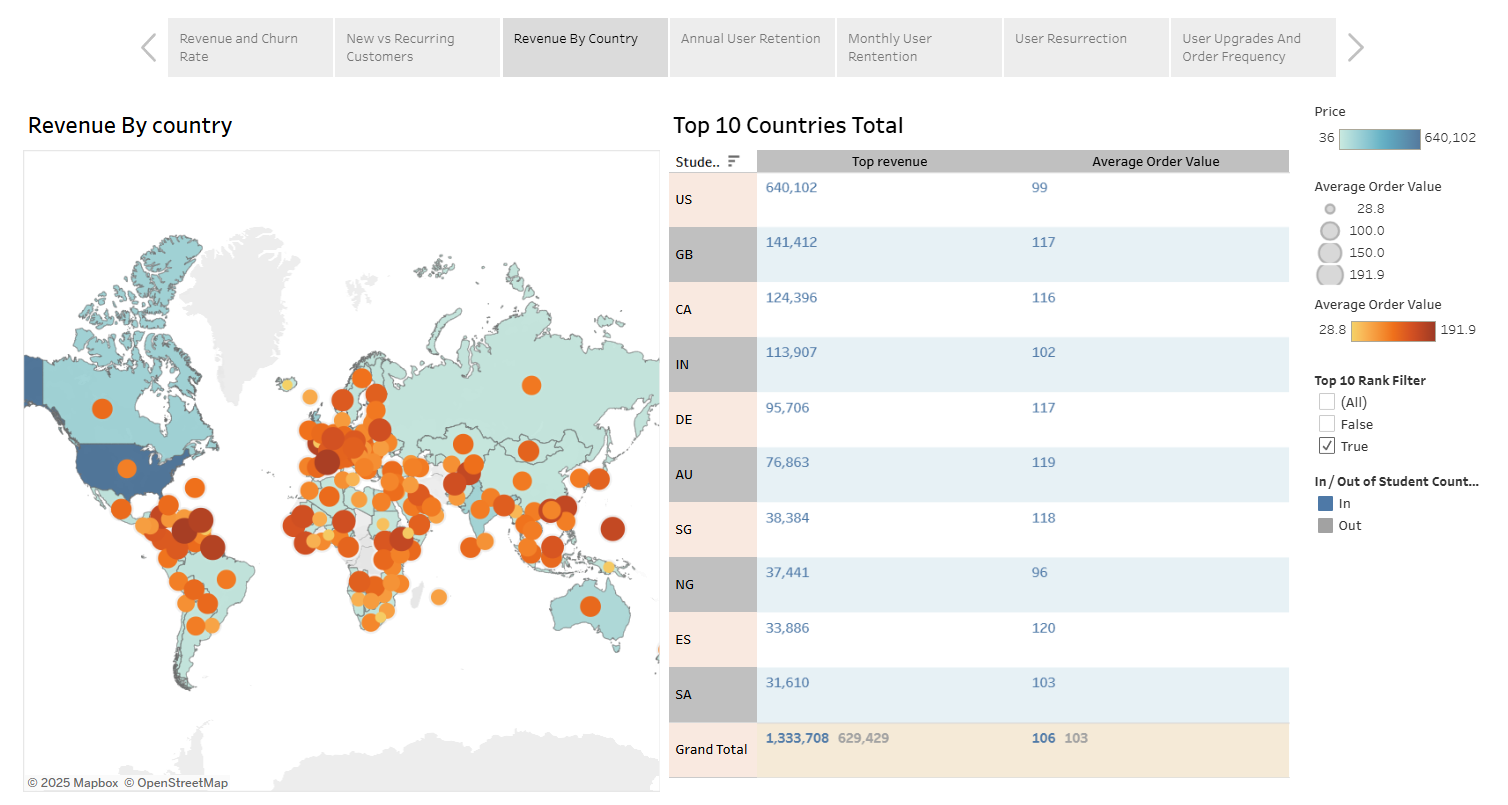

Layout of this report page (visuals, bound fields, positions):
{"tool":"tableau","page":{"name":"Revenue Dashboard","canvas":[1350,651],"ordinal":2},"visuals":[{"type":"worksheet","title":"Revenue By country","mark":"Automatic","box":[8,8,587,635]},{"type":"worksheet","title":"Top 10 Countries Total","mark":"Automatic","rows":["student_country"],"box":[595,8,587,635]},{"type":"legend","title":"Revenue By country","param":"[federated.103k3fl0dgmcf912g1tpi17h8gps].[sum:price:qk]","box":[1182,8,160,65]},{"type":"legend","title":"Revenue By country","param":"[federated.103k3fl0dgmcf912g1tpi17h8gps].[usr:Calculation_1380916249848848391:qk","box":[1182,73,160,106]},{"type":"legend","title":"Revenue By country","param":"[federated.103k3fl0dgmcf912g1tpi17h8gps].[usr:Calculation_1380916249848848391:qk","box":[1182,179,160,65]},{"type":"filter","title":"Top 10 Countries Total","param":"[federated.103k3fl0dgmcf912g1tpi17h8gps].[usr:Calculation_1631710454424203291:nk","box":[1182,244,160,89]},{"type":"legend","title":"Top 10 Countries Total","param":"[federated.103k3fl0dgmcf912g1tpi17h8gps].[io:Student Country Set:nk]","box":[1182,333,160,66]}]}

Visuals, with their boxes on the page's 1350x651 design canvas (x1, y1, x2, y2). These are canvas units, not pixel positions in the 1508x805 screenshot, which may show the page scaled, cropped or inside an application window:
"Revenue By country" worksheet: pyautogui.locateOnScreen(8, 8, 595, 643)
"Top 10 Countries Total" worksheet: pyautogui.locateOnScreen(595, 8, 1182, 643)
"Revenue By country" legend: pyautogui.locateOnScreen(1182, 8, 1342, 73)
"Revenue By country" legend: pyautogui.locateOnScreen(1182, 73, 1342, 179)
"Revenue By country" legend: pyautogui.locateOnScreen(1182, 179, 1342, 244)
"Top 10 Countries Total" filter: pyautogui.locateOnScreen(1182, 244, 1342, 333)
"Top 10 Countries Total" legend: pyautogui.locateOnScreen(1182, 333, 1342, 399)
